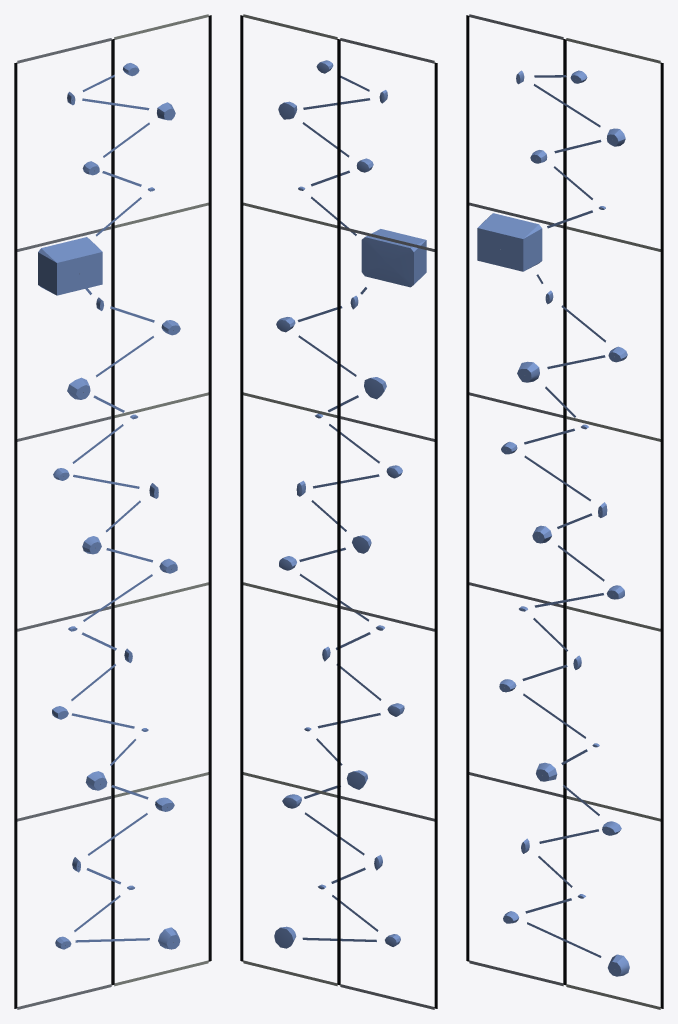
Rendered from tt_climb_lead_routes_h.glb.
3 renders of one model, left to right at view 1: azimuth 30°, elevation 25°; view 2: azimuth 150°, elevation 25°; view 3: azimuth 330°, elevation 25°, orthographic.
Parts seen in each view (by area): view 1: Grid_Mullion, Holds_PU, Route_Tape, Grid_Course_R, Grid_Course_L; view 2: Grid_Mullion, Holds_PU, Route_Tape, Grid_Course_L, Grid_Course_R; view 3: Grid_Mullion, Holds_PU, Route_Tape, Grid_Course_R, Grid_Course_L.
Part boxes in pixels (x1,y1,x2,y2): Grid_Mullion: (14,15,211,1008); Holds_PU: (38,63,180,949); Route_Tape: (71,74,154,942); Grid_Course_R: (114,14,208,986); Grid_Course_L: (17,38,111,1009); Grid_Mullion: (240,15,437,1008); Holds_PU: (274,60,426,948); Route_Tape: (297,76,381,941); Grid_Course_L: (340,38,434,1009); Grid_Course_R: (243,14,337,986); Grid_Mullion: (466,15,663,1008); Holds_PU: (477,70,629,976); Route_Tape: (522,75,605,957); Grid_Course_R: (566,38,660,1009); Grid_Course_L: (469,14,563,986).
Size of what is drawn, in the model's own units: 2.5 by 11.5 by 0.364.
5 materials, 2 textured.
